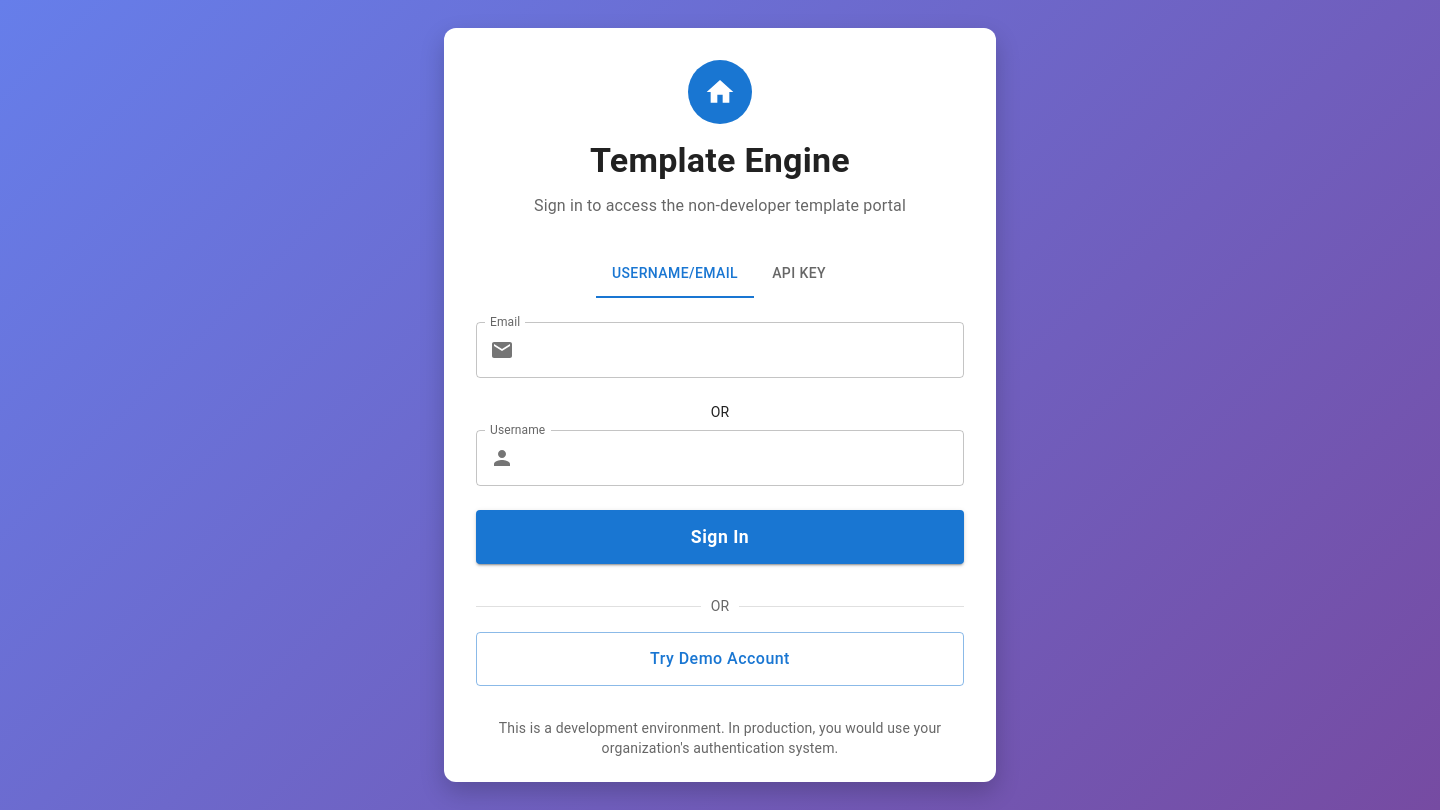
it: LoginPage › Error Handling › should clear field errors when user starts typing
# Trigger validation error
Click the button "Sign In": [720, 537] box 476,510 -> 964,564
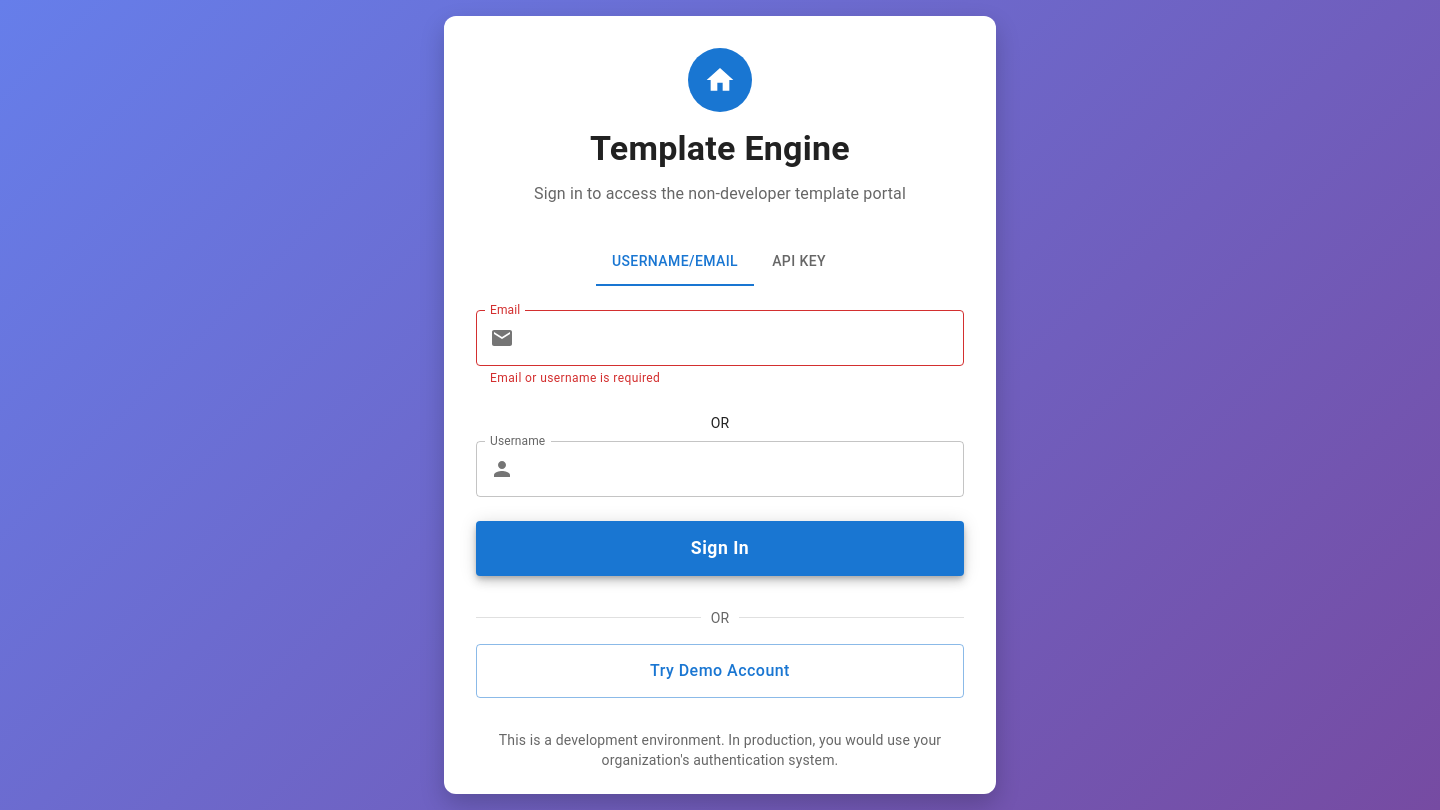
Result: the text "Email or username is required" is shown at 490,371 -> 660,385
# Start typing to clear error
In the field labelled "Email": [743, 338] box 522,310 -> 964,366, type "t"
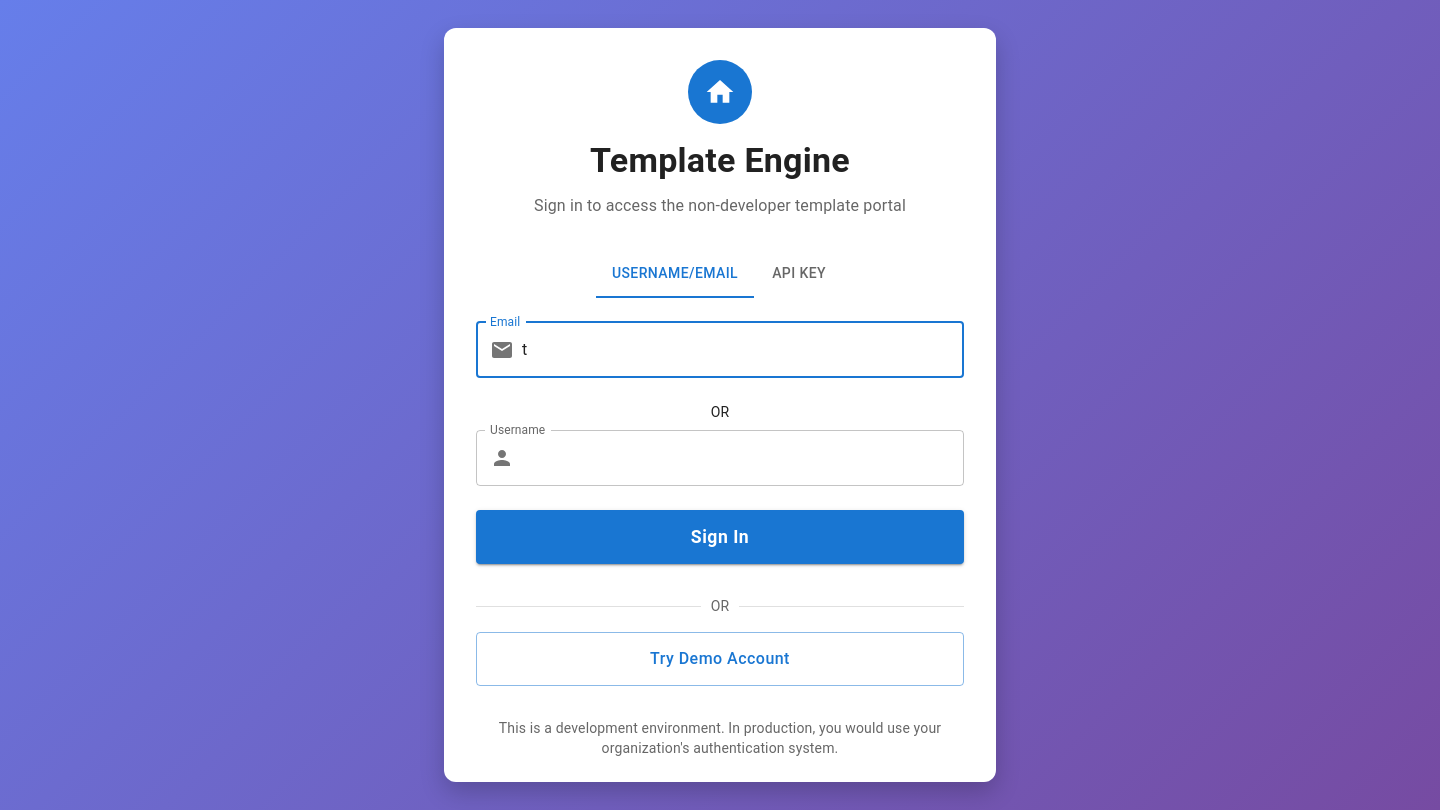
Result: the text "Email or username is required" is gone
